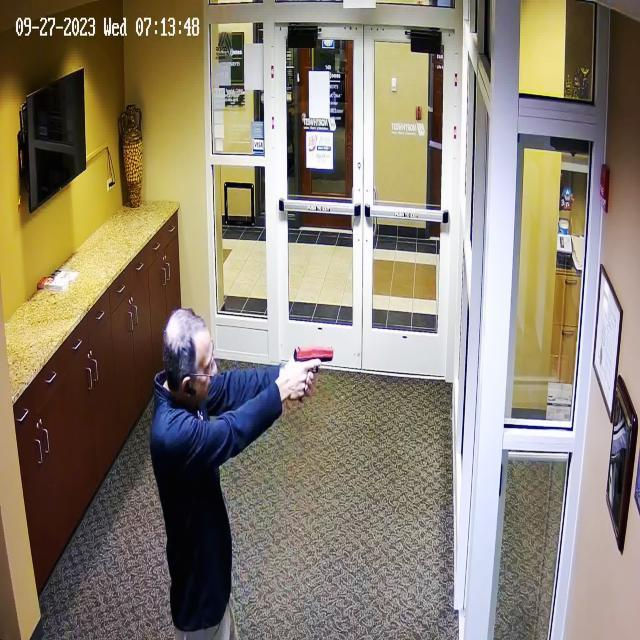Gun: (284, 336, 353, 382)
